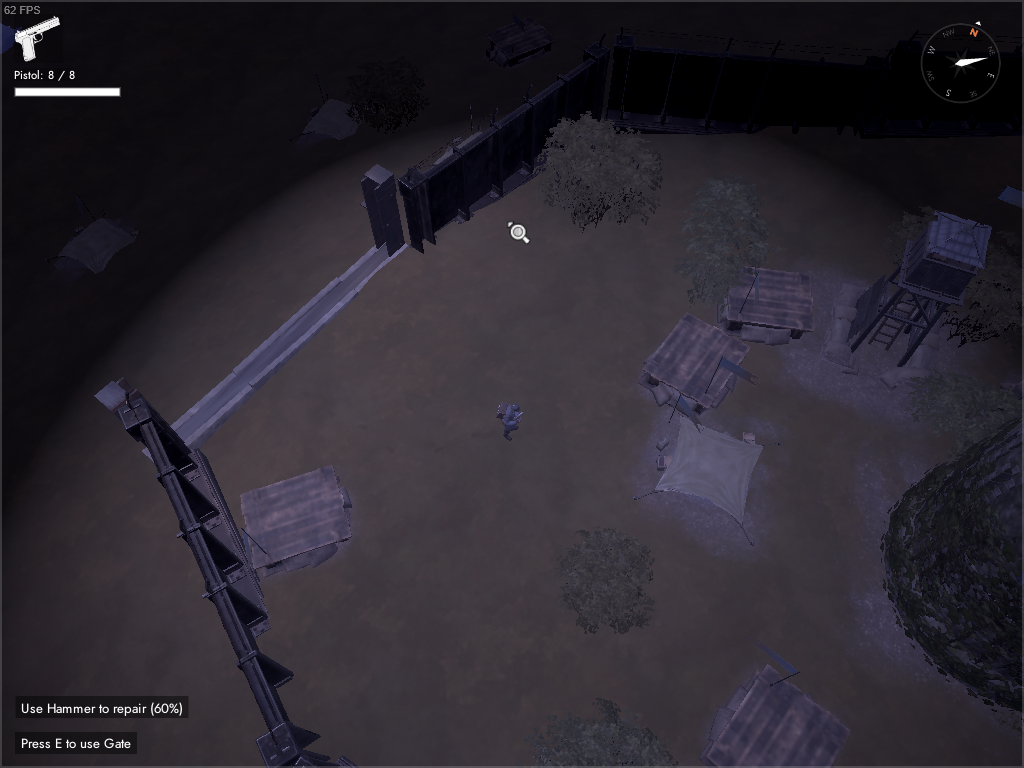fortified_wall: (113, 389, 332, 768), (393, 31, 612, 256), (604, 22, 875, 147), (857, 27, 1024, 144)
foxhole: (619, 395, 794, 559), (46, 207, 150, 289), (283, 85, 382, 157)
lowered_gate: (90, 161, 415, 461)
pillbox: (682, 639, 865, 768), (231, 457, 375, 587), (626, 306, 755, 422), (717, 249, 816, 352), (479, 7, 560, 73)
player: (490, 397, 525, 444)
use_gate: (12, 728, 140, 758)
watchtower: (810, 177, 1024, 402)
